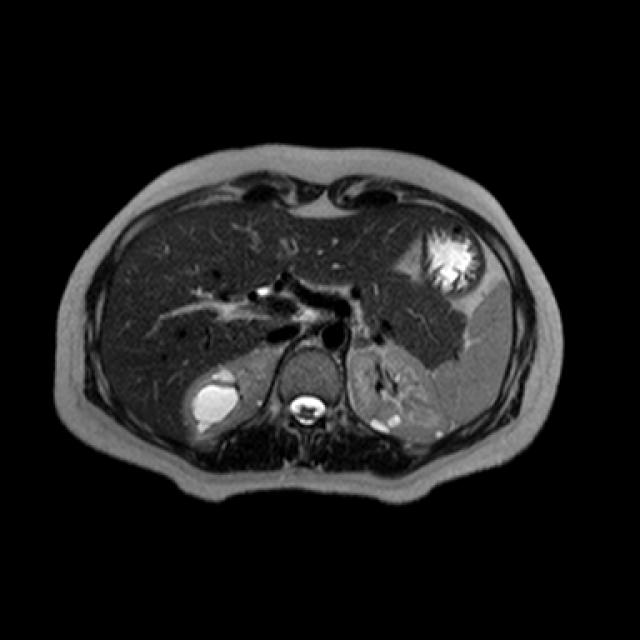sag: (181, 348, 281, 442)
sol: (351, 345, 449, 442)
